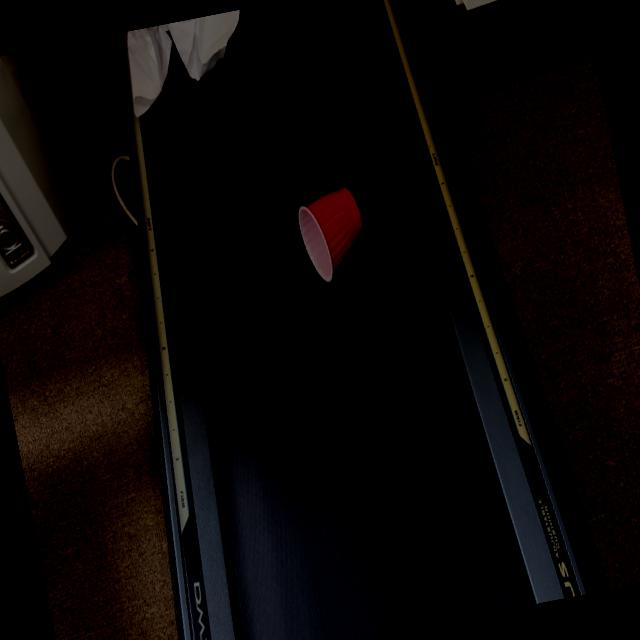Recycle: (294, 184, 372, 288)
